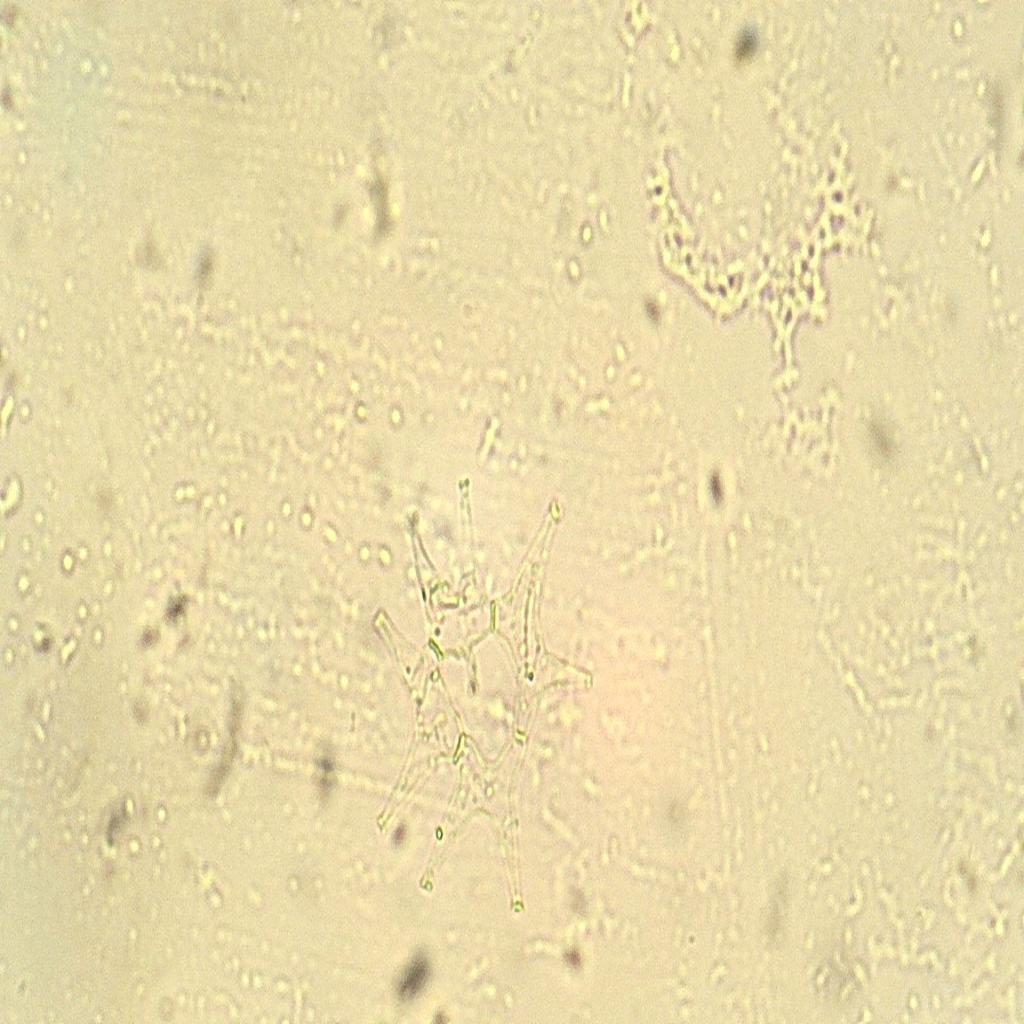Pediastrum_75TH: (335, 466, 613, 940)
